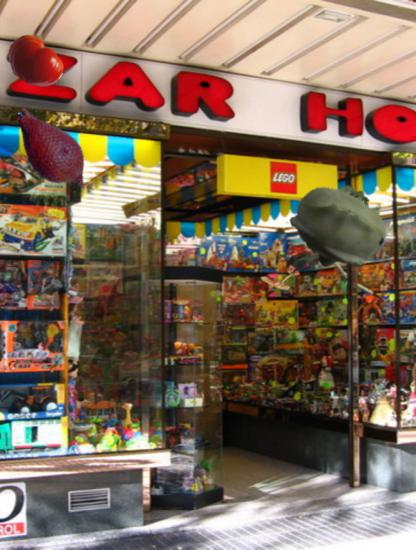Kohlrabi: (291, 178, 388, 275)
Salak: (2, 101, 102, 201)
Tomato: (5, 32, 65, 92)
